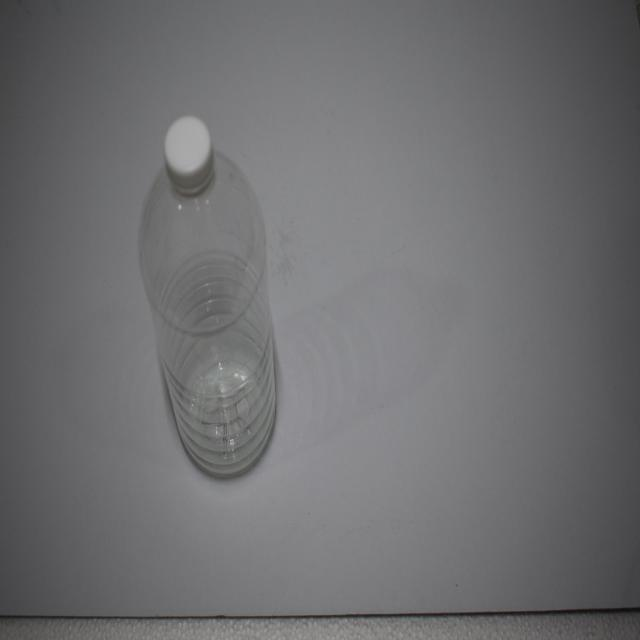bottle: (129, 94, 297, 494)
